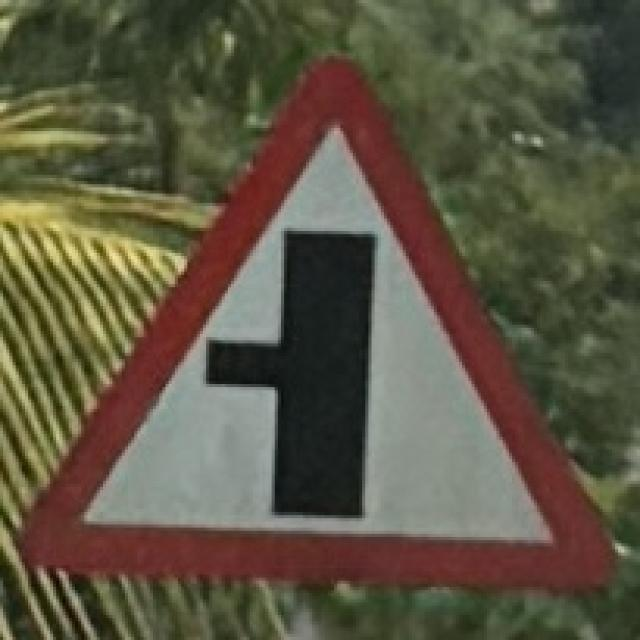SIDE_ROAD_LEFT: (15, 43, 623, 599)
